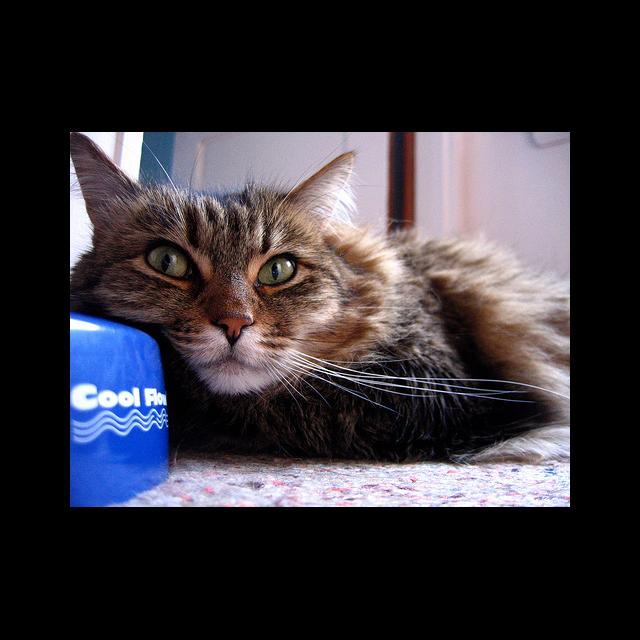animals: (70, 132, 351, 344)
